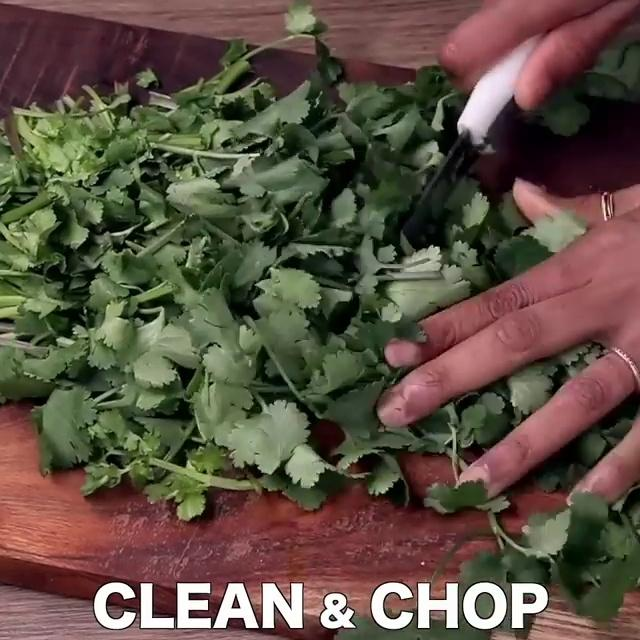cilantro: (0, 88, 397, 467)
